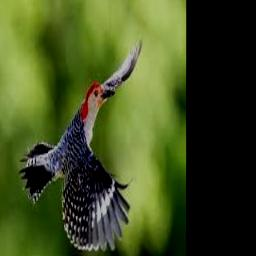Woodpecker: (20, 36, 142, 251)
